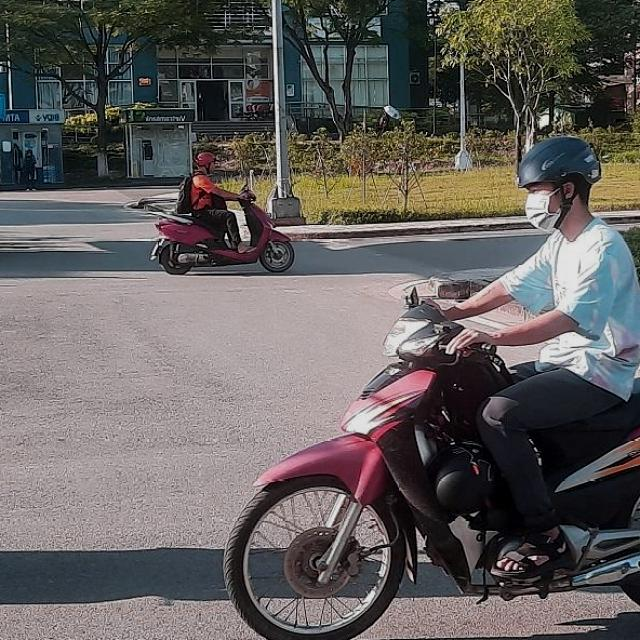Helmet: (512, 132, 598, 225)
